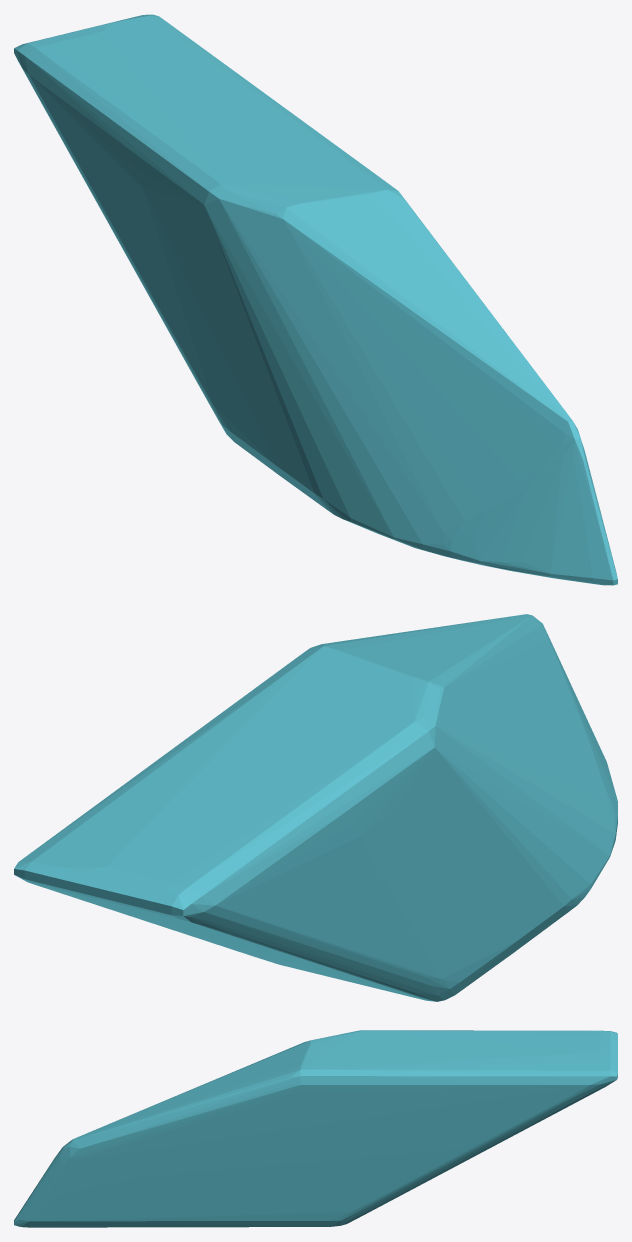
File: right-toe-roll-0_part_2.obj
The picture shows the model from 3 angles, top to bottom: view 1: azimuth 30°, elevation 25°; view 2: azimuth 150°, elevation 25°; view 3: azimuth 270°, elevation 25°; orthographic projection. The views are drawn at different scales.
Bounding box in the file's own units: 0.0231 × 0.035 × 0.1211.
